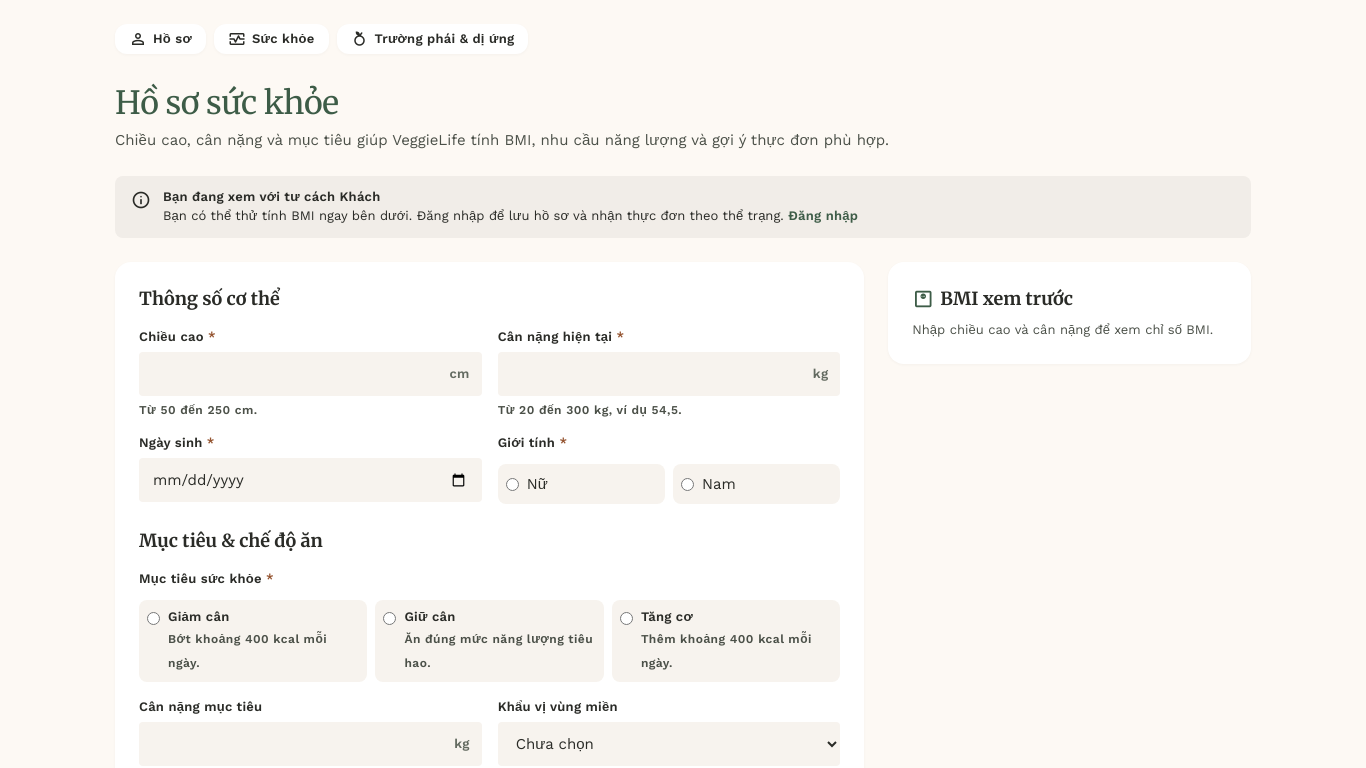
Test case: HealthProfile (SCR-08) › Khách › BMI xem trước đổi ngay khi gõ chiều cao, cân nặng; không gọi API hồ sơ
The width and height of the screenshot is (1366, 768).
Expected: the text "Nhập chiều cao và cân nặng để xem chỉ số BMI." is shown, left=912, top=320, right=1227, bottom=340
Type "162" into the field labelled "Chiều cao *" at (310, 374), box left=139, top=352, right=482, bottom=396
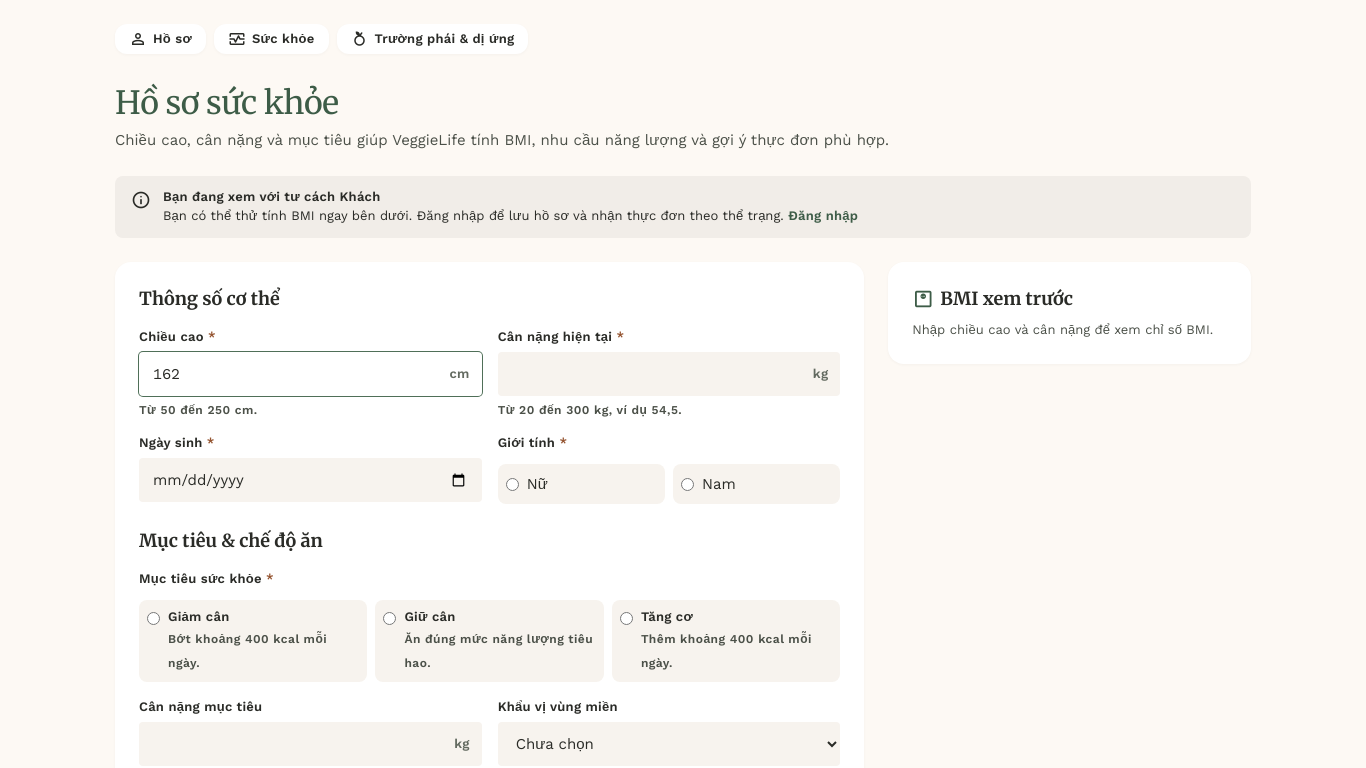
Type "54,5" into the field labelled "Cân nặng hiện tại *" at (669, 374), box left=498, top=352, right=840, bottom=396
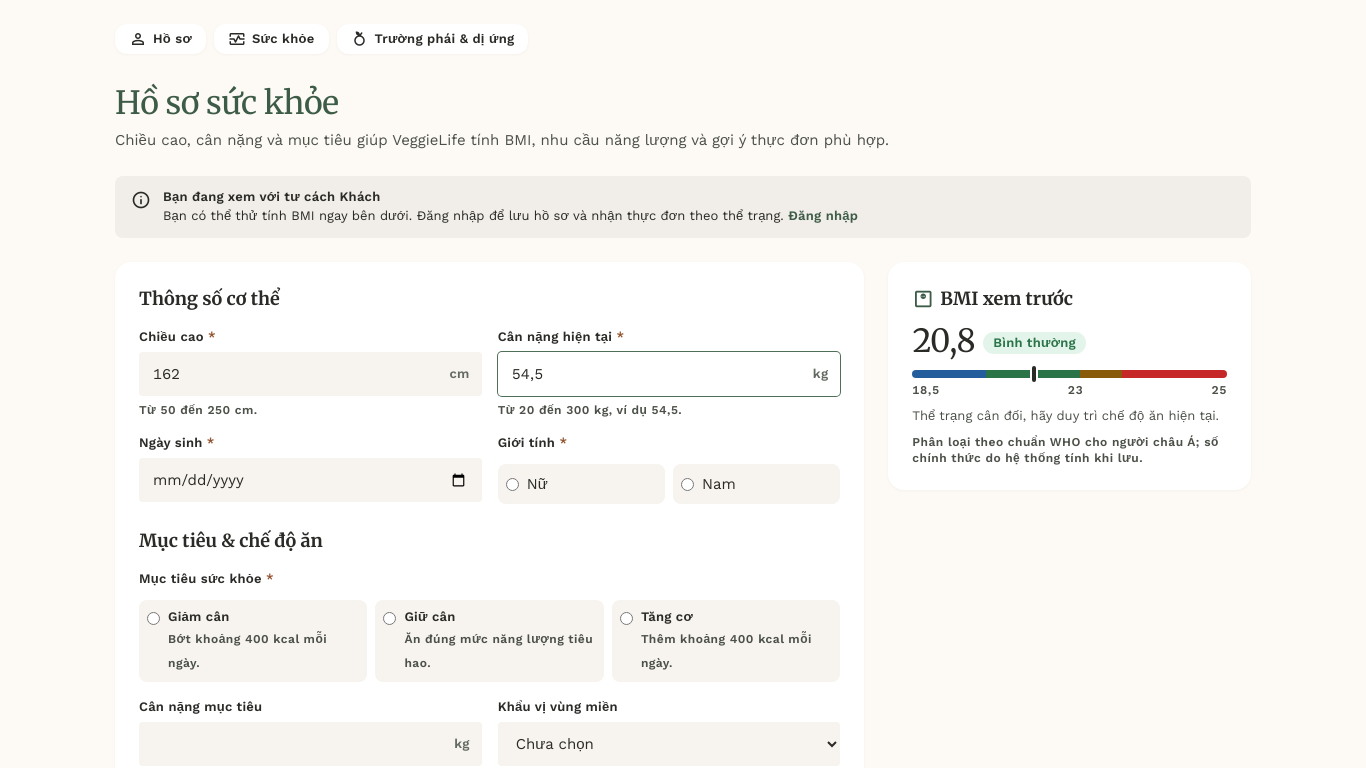
Expected: the text "Bình thường" is shown, left=983, top=332, right=1086, bottom=354
Replace the text in the field labelled "Cân nặng hiện tại *" with "80" at (669, 374), box left=498, top=352, right=840, bottom=396
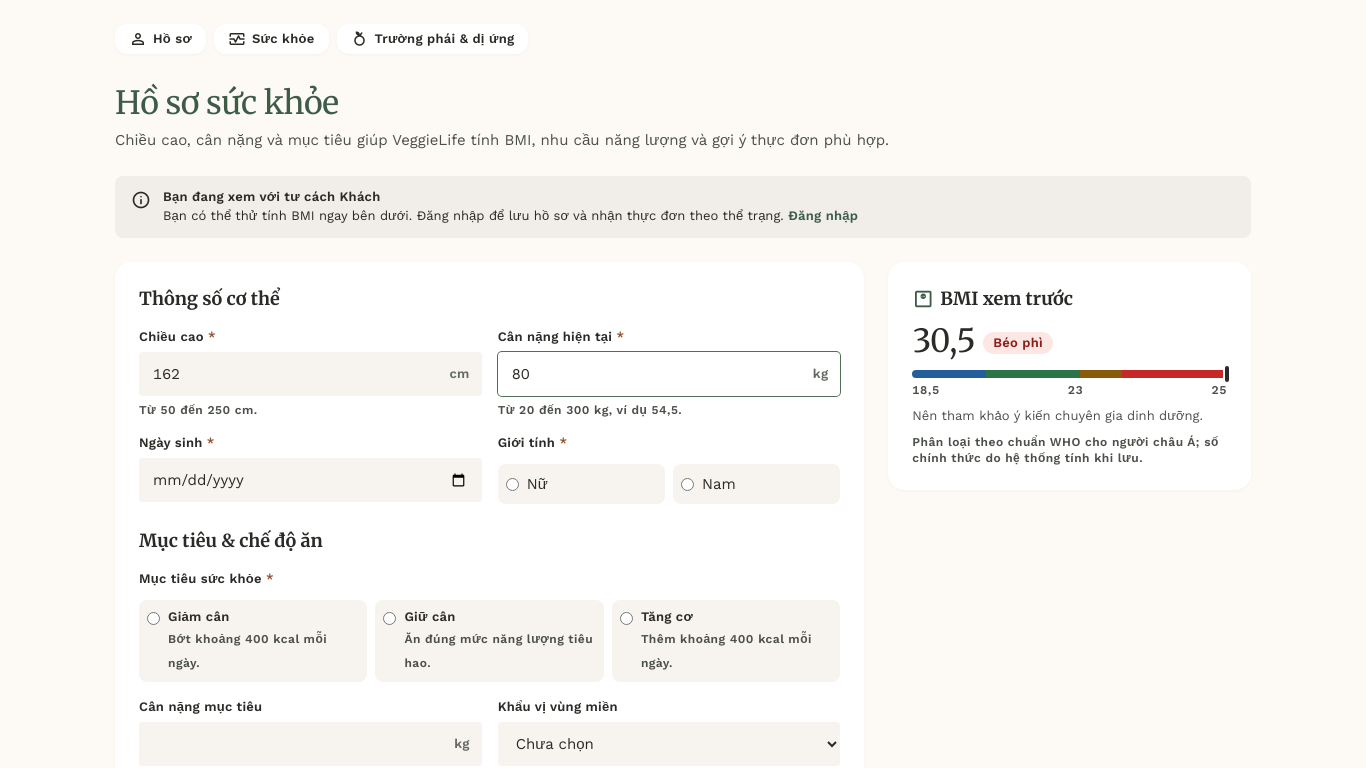
Expected: the text "Béo phì" is shown, left=983, top=332, right=1053, bottom=354
